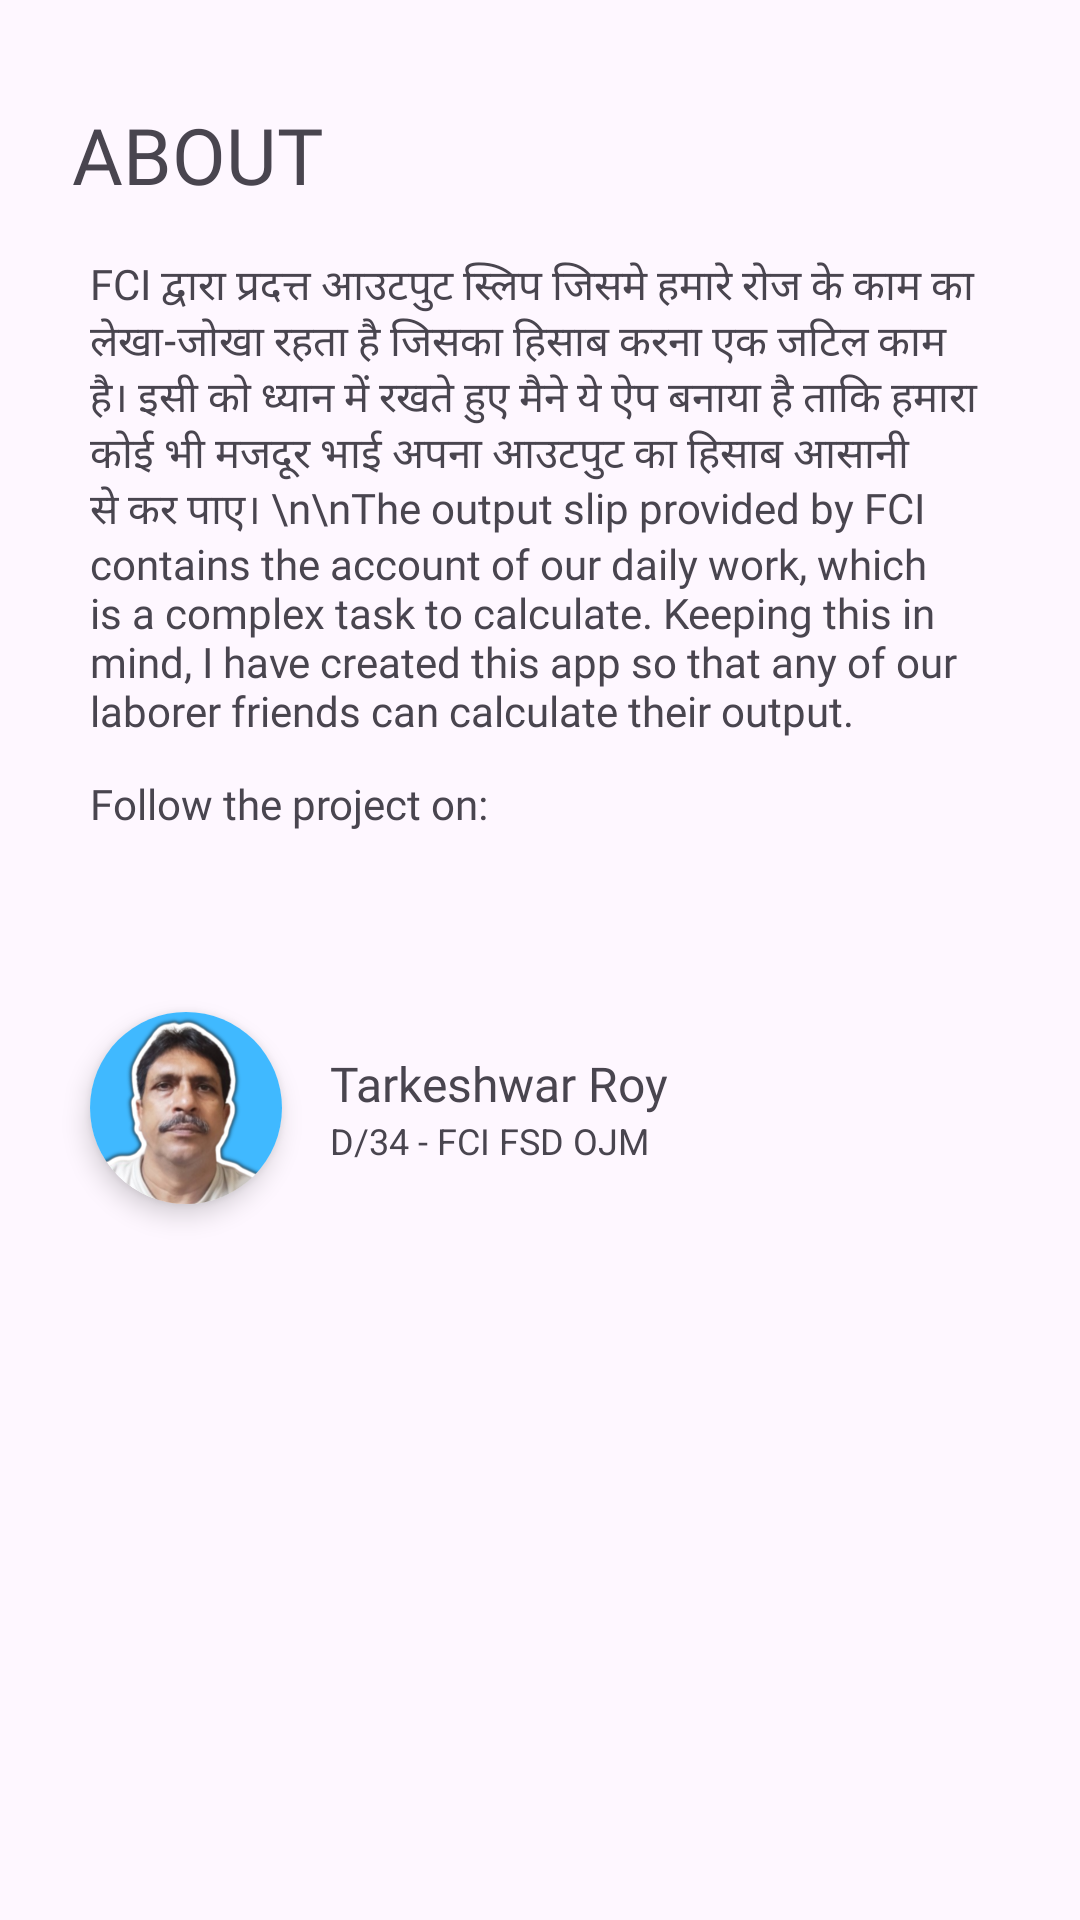

Named icons in this screenshot (1080 × 1920) and their centers, [x,y]:
owner: [186,1108]
